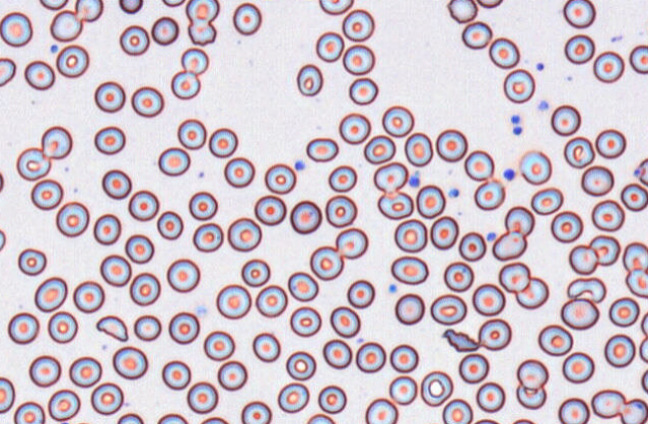PLT: (502, 165, 517, 183), (447, 186, 461, 199), (537, 99, 551, 112), (194, 304, 208, 317), (409, 174, 421, 187), (387, 282, 399, 295), (293, 159, 307, 170), (511, 125, 523, 137), (510, 112, 521, 125), (535, 61, 545, 72)
RBC: (560, 297, 599, 330), (216, 283, 251, 319), (55, 201, 89, 237), (309, 245, 343, 280), (420, 370, 453, 406), (112, 346, 148, 379), (34, 276, 67, 312), (519, 149, 552, 185), (166, 258, 200, 292), (16, 147, 50, 181), (227, 217, 261, 251), (289, 199, 322, 234), (537, 324, 573, 356), (0, 11, 32, 47), (430, 293, 466, 325), (390, 255, 428, 285), (515, 276, 549, 309), (394, 218, 427, 252), (55, 44, 89, 77), (503, 68, 535, 103), (90, 382, 123, 415), (47, 388, 80, 421), (28, 354, 61, 387), (472, 283, 505, 316), (550, 210, 583, 243), (477, 318, 511, 350), (591, 199, 625, 231), (435, 128, 467, 162), (373, 161, 408, 192), (49, 9, 82, 41), (186, 381, 218, 414), (335, 227, 368, 259), (72, 280, 104, 313), (342, 8, 374, 41), (7, 311, 39, 344), (255, 284, 287, 317), (381, 105, 414, 137), (30, 178, 63, 210), (325, 194, 357, 227), (131, 85, 164, 117), (492, 230, 526, 261), (68, 356, 102, 387), (604, 333, 635, 367), (129, 272, 160, 306), (41, 125, 72, 159), (580, 165, 614, 196), (498, 261, 530, 293), (99, 254, 131, 286), (562, 351, 594, 383), (338, 112, 370, 144), (47, 310, 78, 343), (168, 311, 199, 344), (593, 50, 624, 83), (94, 80, 125, 113), (415, 184, 445, 218), (590, 389, 625, 418), (377, 191, 413, 219), (516, 358, 548, 389), (589, 234, 620, 266), (329, 305, 360, 337), (277, 382, 309, 413), (394, 293, 425, 325), (289, 306, 321, 337), (203, 330, 235, 361), (342, 44, 374, 75), (264, 163, 296, 194), (128, 189, 159, 221), (355, 341, 386, 373), (473, 179, 505, 210), (254, 194, 286, 225), (563, 136, 594, 168), (550, 104, 581, 136), (157, 146, 190, 176), (429, 215, 458, 249), (404, 132, 433, 166), (608, 296, 639, 327), (458, 352, 489, 383), (443, 261, 474, 292), (223, 156, 254, 187), (488, 37, 519, 68), (363, 134, 395, 164), (464, 149, 494, 181), (232, 2, 261, 35), (530, 186, 563, 215), (504, 205, 534, 236), (568, 244, 598, 275), (285, 350, 316, 380), (322, 338, 352, 369), (217, 360, 247, 391), (475, 381, 505, 412), (287, 271, 318, 301), (192, 222, 223, 252), (101, 168, 131, 199), (119, 24, 149, 55), (24, 60, 55, 90), (595, 128, 626, 158), (562, 0, 595, 28), (161, 360, 191, 390), (124, 233, 154, 263), (208, 127, 238, 157), (564, 34, 594, 64), (315, 31, 344, 62), (177, 118, 206, 149), (94, 125, 125, 154), (93, 213, 121, 245), (296, 63, 323, 96), (364, 397, 398, 423), (317, 384, 346, 414), (170, 70, 200, 99), (388, 375, 417, 405), (240, 258, 270, 287), (252, 331, 280, 362), (461, 21, 492, 49), (346, 279, 375, 308), (188, 191, 217, 220), (389, 343, 418, 372), (17, 247, 46, 276), (458, 231, 486, 261), (348, 77, 378, 105), (557, 397, 589, 423), (151, 16, 179, 45), (328, 164, 357, 192), (156, 210, 183, 240), (622, 241, 648, 272), (306, 137, 338, 162), (180, 47, 208, 75), (620, 182, 647, 211), (515, 384, 546, 409), (441, 398, 472, 423), (185, 0, 218, 23), (133, 314, 161, 341), (187, 20, 216, 45), (240, 400, 271, 423), (13, 401, 45, 423), (447, 0, 477, 23), (620, 398, 647, 423), (625, 268, 647, 298), (74, 0, 103, 21), (0, 376, 15, 413), (629, 44, 647, 74), (318, 0, 353, 15), (0, 57, 16, 87), (634, 157, 648, 186), (156, 412, 188, 423), (118, 0, 143, 13), (116, 412, 144, 423), (305, 413, 335, 423), (39, 0, 68, 10), (639, 336, 647, 363), (476, 0, 503, 8), (199, 416, 229, 423), (640, 311, 648, 336), (641, 368, 648, 394), (161, 0, 185, 7), (472, 418, 500, 423), (0, 228, 6, 251), (511, 418, 536, 423), (0, 170, 4, 193)
Schistocyte: (442, 327, 485, 352), (567, 277, 606, 303), (96, 315, 129, 344)
